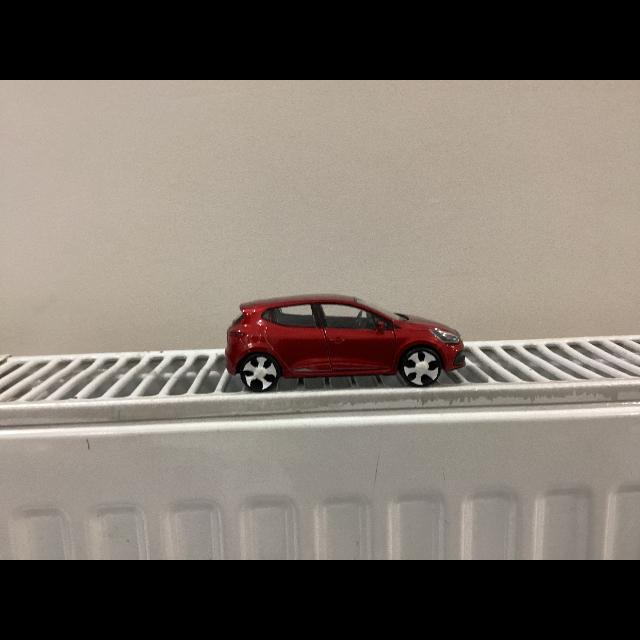Yanlis_Jant: (403, 350, 439, 386), (242, 356, 278, 390)
